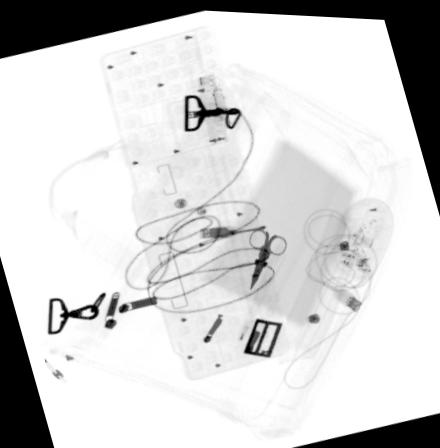Scissors: (248, 226, 288, 287)
